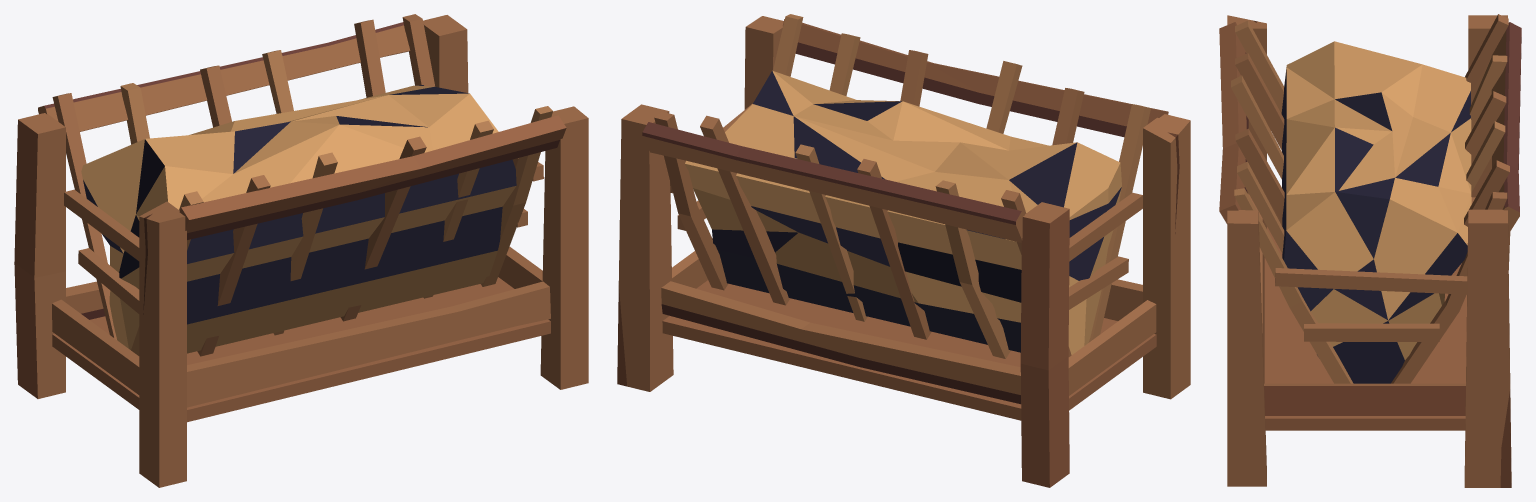
Rendered from magner_with_hay.fbx.
3 views of the same model, side by side, from view 1: azimuth 30°, elevation 25°; view 2: azimuth 150°, elevation 25°; view 3: azimuth 270°, elevation 25° (orthographic).
Visible parts, largest first — view 1: manger_empty, hay; view 2: manger_empty, hay; view 3: manger_empty, hay.
Boxes of the visible parts, x1,y1,x2,y2 form: manger_empty: (14,14,588,487); hay: (81,85,516,353); manger_empty: (617,14,1190,487); hay: (685,70,1121,354); manger_empty: (1219,14,1521,487); hay: (1281,41,1471,383).
Size of the model in its own units: 102 by 64.59 by 62.29.
